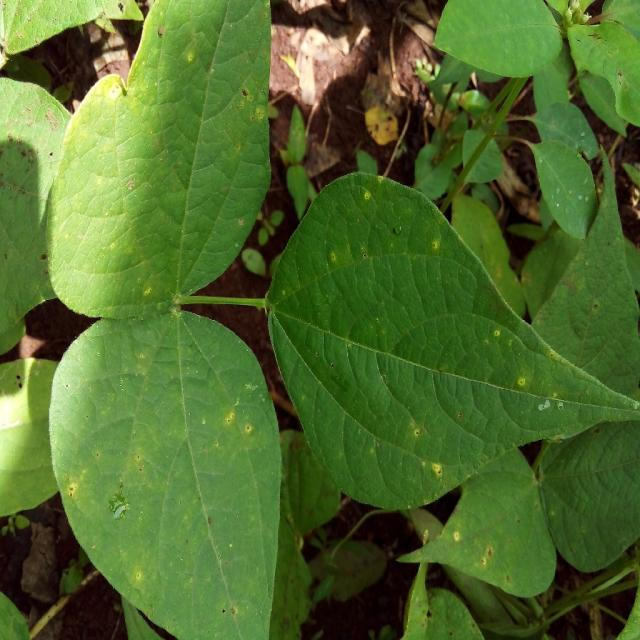hawar: (284, 182, 607, 513), (50, 326, 271, 628), (73, 6, 256, 311), (407, 509, 532, 587)
